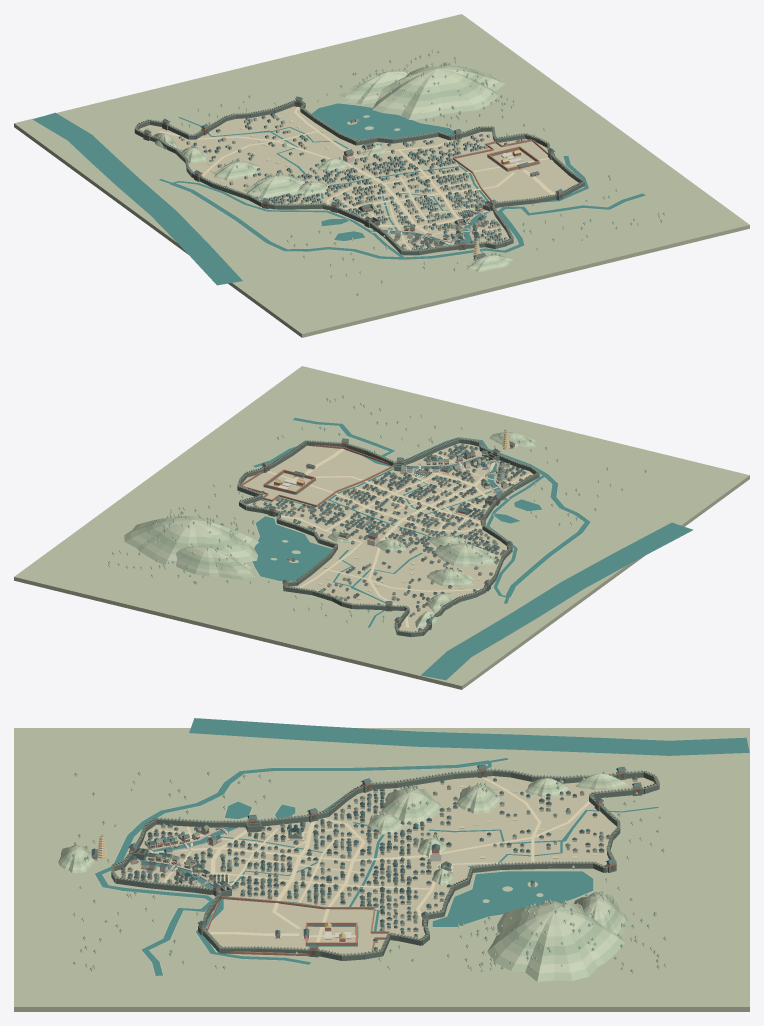
The model's file is ming-city.glb.
3 views of the same model, one above another, from view 1: azimuth 30°, elevation 25°; view 2: azimuth 150°, elevation 25°; view 3: azimuth 270°, elevation 25° (orthographic). The views are drawn at different scales.
Parts seen in each view (by area): view 1: terrain_land, terrain_city_ground, terrain_water, terrain_hill, walls_wall, terrain_hill_light, terrain_road, terrain_bank, neighbourhoods_roof, walls_wall_cap, neighbourhoods_house, terrain_hill_dark (+6 smaller); view 2: terrain_land, terrain_city_ground, terrain_water, terrain_hill, terrain_hill_light, walls_wall, terrain_road, neighbourhoods_roof, neighbourhoods_house, walls_wall_cap, terrain_bank, terrain_hill_dark (+6 smaller); view 3: terrain_land, terrain_city_ground, terrain_water, terrain_hill, walls_wall, terrain_hill_light, terrain_road, neighbourhoods_roof, walls_wall_cap, terrain_bank, neighbourhoods_house, terrain_hill_dark (+10 smaller).
Part boxes in pixels (left/top/right/bottom): terrain_land: left=14, top=14, right=749, bottom=337; terrain_city_ground: left=139, top=106, right=578, bottom=250; terrain_water: left=32, top=103, right=645, bottom=285; terrain_hill: left=153, top=66, right=513, bottom=271; walls_wall: left=134, top=100, right=584, bottom=255; terrain_hill_light: left=154, top=66, right=510, bottom=269; terrain_road: left=159, top=106, right=555, bottom=250; terrain_bank: left=159, top=103, right=645, bottom=259; neighbourhoods_roof: left=179, top=115, right=520, bottom=250; walls_wall_cap: left=135, top=100, right=584, bottom=251; neighbourhoods_house: left=179, top=117, right=525, bottom=249; terrain_hill_dark: left=156, top=67, right=505, bottom=266; terrain_land: left=14, top=366, right=749, bottom=689; terrain_city_ground: left=242, top=443, right=533, bottom=631; terrain_water: left=252, top=417, right=693, bottom=680; terrain_hill: left=124, top=432, right=536, bottom=628; terrain_hill_light: left=130, top=432, right=534, bottom=626; walls_wall: left=237, top=439, right=539, bottom=637; terrain_road: left=267, top=448, right=530, bottom=627; neighbourhoods_roof: left=249, top=445, right=527, bottom=630; neighbourhoods_house: left=252, top=446, right=526, bottom=631; walls_wall_cap: left=237, top=437, right=539, bottom=633; terrain_bank: left=251, top=417, right=590, bottom=627; terrain_hill_dark: left=145, top=432, right=529, bottom=621; terrain_land: left=14, top=728, right=749, bottom=1011; terrain_city_ground: left=114, top=776, right=654, bottom=954; terrain_water: left=95, top=718, right=749, bottom=975; terrain_hill: left=58, top=775, right=628, bottom=981; walls_wall: left=111, top=769, right=659, bottom=960; terrain_hill_light: left=60, top=773, right=625, bottom=973; terrain_road: left=152, top=777, right=604, bottom=942; neighbourhoods_roof: left=120, top=776, right=637, bottom=949; walls_wall_cap: left=111, top=768, right=659, bottom=956; terrain_bank: left=94, top=757, right=658, bottom=975; neighbourhoods_house: left=121, top=779, right=637, bottom=937; terrain_hill_dark: left=64, top=777, right=619, bottom=955.
Size of the model in its own units: 190 by 12.94 by 205.
